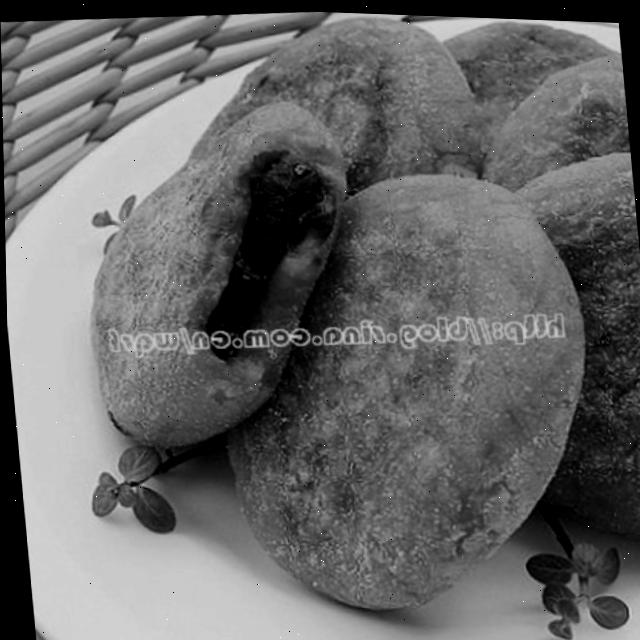炸货点心: (14, 0, 640, 640)
蛋糕甜品: (14, 0, 640, 640)
